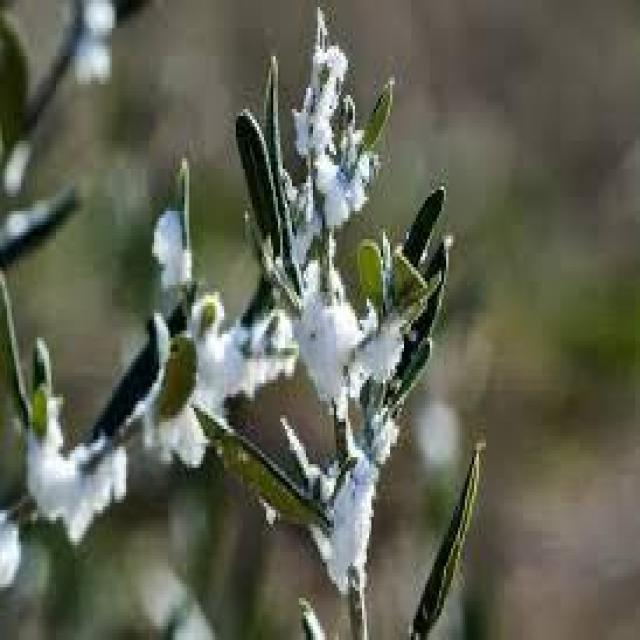Psyllid: (23, 341, 124, 542), (292, 46, 374, 229), (297, 267, 402, 401), (194, 292, 297, 418), (142, 331, 206, 464), (325, 457, 376, 587), (154, 211, 189, 285)
